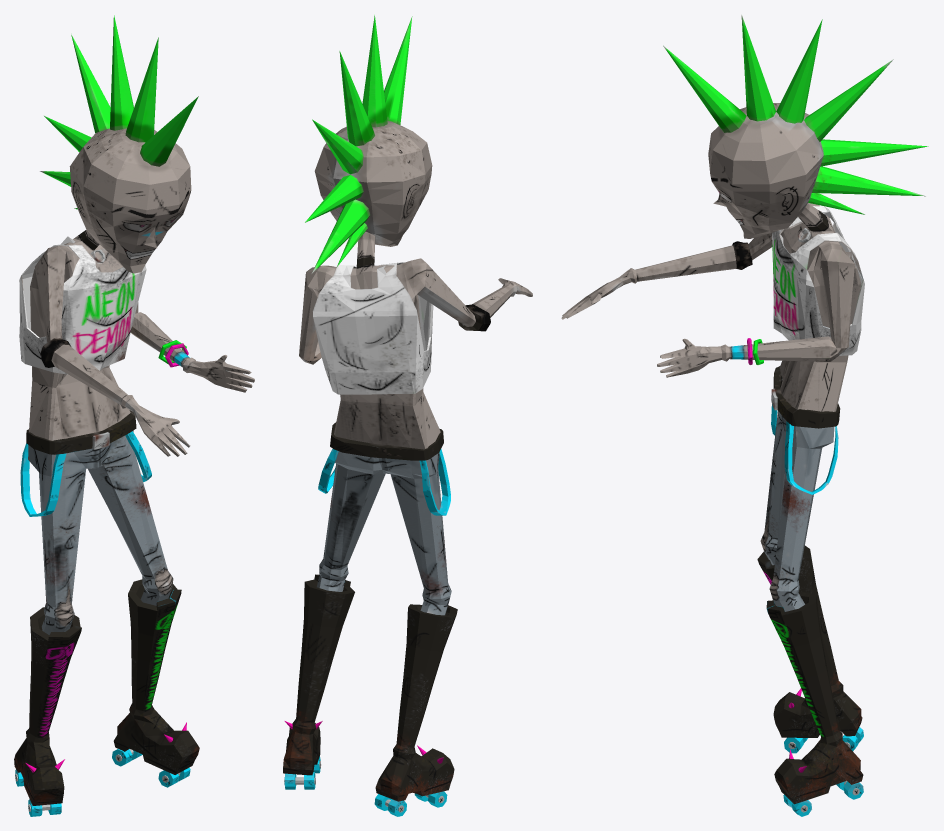
The model's file is punkAnimation_000011.obj.
The picture shows the model from 3 angles, left to right: view 1: azimuth 30°, elevation 25°; view 2: azimuth 150°, elevation 25°; view 3: azimuth 270°, elevation 25°; orthographic projection. The views are drawn at different scales.
Parts seen in each view (by area): view 1: Cube.004_Cube.003; view 2: Cube.004_Cube.003; view 3: Cube.004_Cube.003.
Part boxes in pixels (box(x1,y1,x2,y2)): Cube.004_Cube.003: box(14, 15, 254, 816); Cube.004_Cube.003: box(283, 15, 532, 816); Cube.004_Cube.003: box(561, 15, 928, 816).
Bounding box in the file's own units: 1.83 × 7.48 × 3.22.
